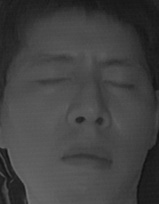blink: (30, 69, 72, 91), (102, 71, 137, 96)
mouth: (57, 140, 118, 178)
